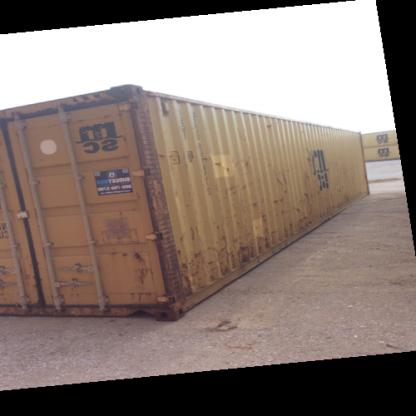Damage: (162, 223, 252, 294), (132, 244, 158, 304), (273, 206, 314, 242), (60, 270, 94, 304), (117, 210, 144, 241), (200, 150, 233, 174), (272, 164, 294, 199), (216, 176, 262, 192), (254, 215, 271, 255), (299, 169, 313, 205), (106, 244, 130, 262), (156, 144, 171, 168), (301, 142, 315, 161), (336, 182, 350, 200), (241, 155, 257, 169), (262, 121, 277, 130), (269, 196, 285, 204), (252, 196, 261, 207)
